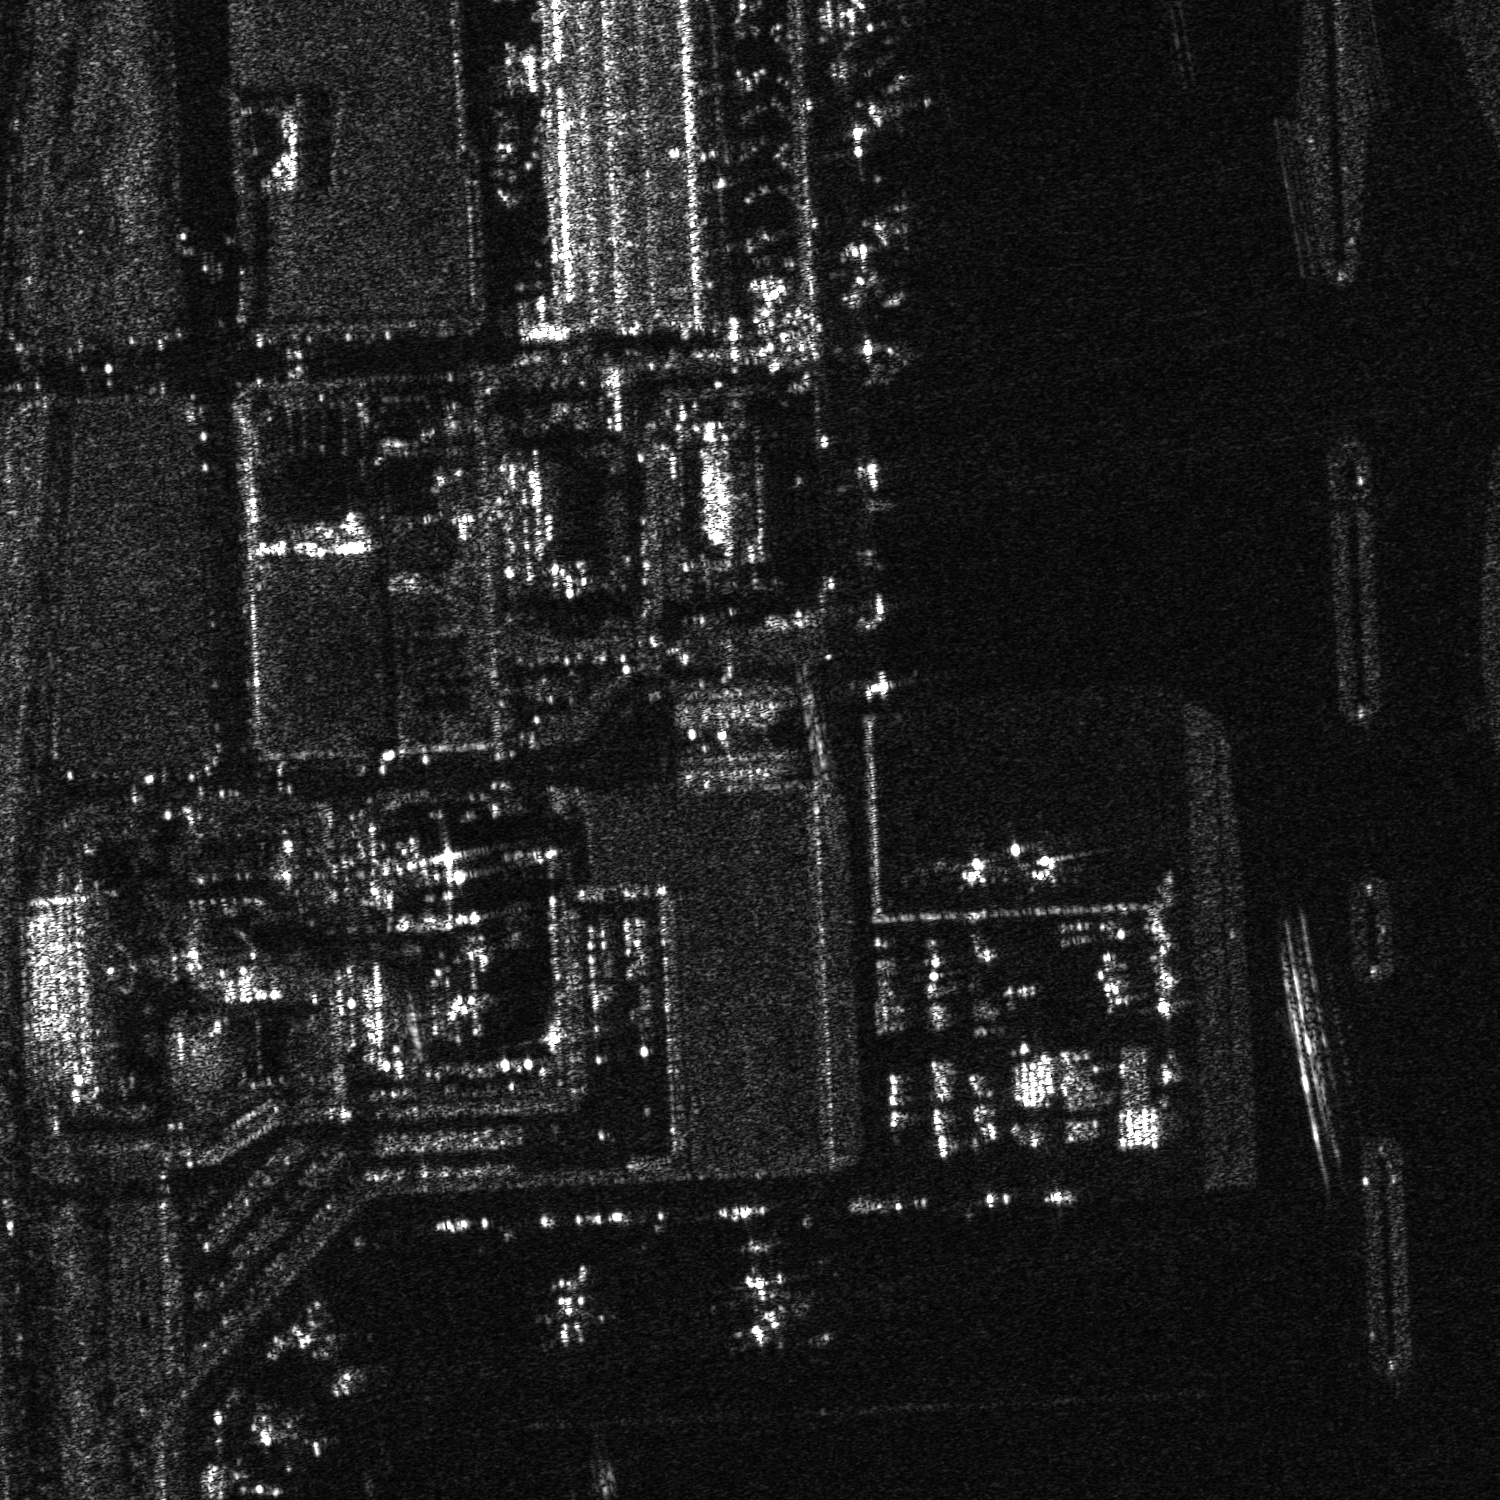A220: (287, 1328, 378, 1398), (253, 1407, 339, 1477)
ARJ21: (934, 843, 1012, 891)
Boeing737: (523, 1260, 620, 1353)
other: (707, 1232, 826, 1350), (850, 62, 956, 144), (863, 184, 940, 265), (1016, 843, 1089, 887)
